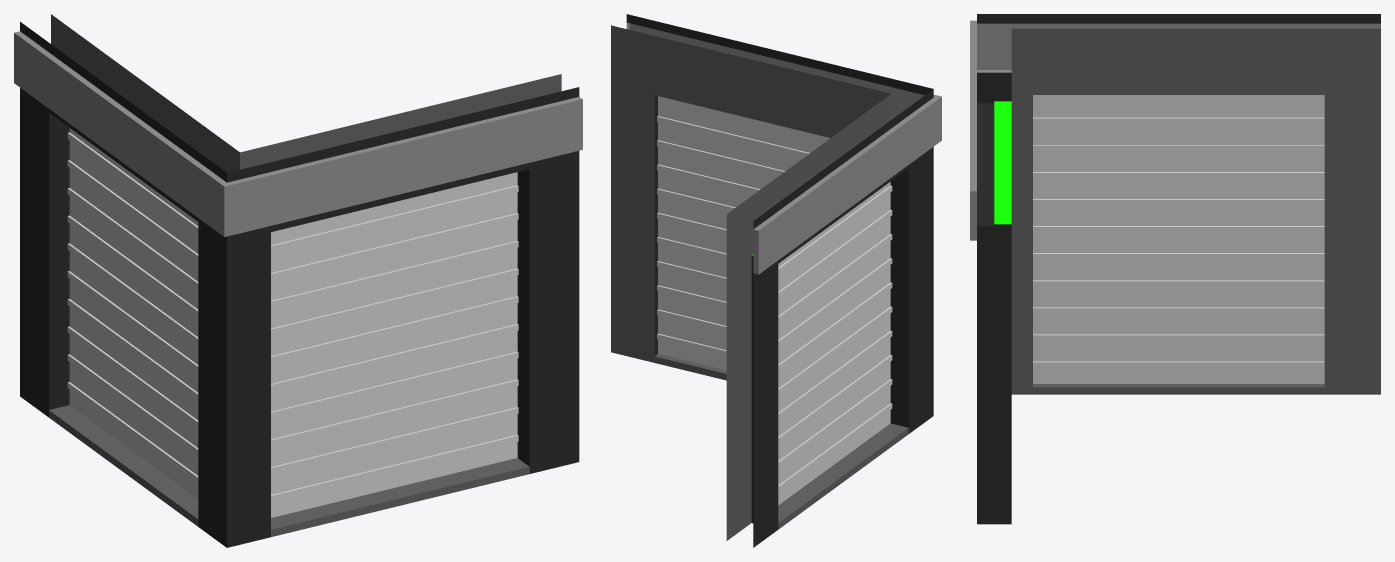
Rendered from Wall_18_Corner.FBX.
3 renders of one model, left to right at view 1: azimuth 30°, elevation 25°; view 2: azimuth 150°, elevation 25°; view 3: azimuth 270°, elevation 25°, orthographic. The views are drawn at different scales.
Parts seen in each view (by area): view 1: Wall_18_Corner_LOD0, Wall_18_Door_B_LOD0, Wall_18_Door_A_LOD0; view 2: Wall_18_Corner_LOD0, Wall_18_Door_A_LOD0, Wall_18_Door_B_LOD0; view 3: Wall_18_Door_A_LOD0, Wall_18_Corner_LOD0.
Part boxes in pixels (x1,y1,x2,y2): Wall_18_Corner_LOD0: (14, 14, 582, 547); Wall_18_Door_B_LOD0: (271, 172, 518, 517); Wall_18_Door_A_LOD0: (67, 128, 198, 498); Wall_18_Corner_LOD0: (611, 14, 941, 547); Wall_18_Door_A_LOD0: (778, 182, 892, 505); Wall_18_Door_B_LOD0: (657, 96, 830, 370); Wall_18_Door_A_LOD0: (1033, 95, 1324, 383); Wall_18_Corner_LOD0: (970, 14, 1380, 524).
Size of what is drawn, in the model's own units: 180 by 180 by 183.
